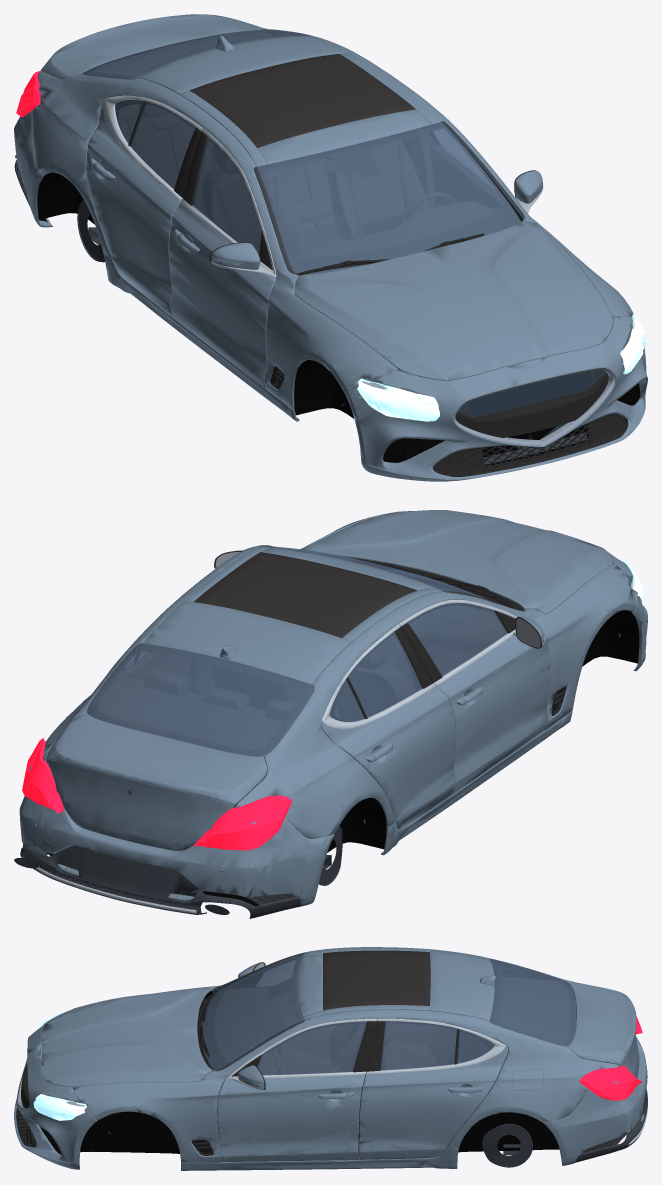
File: wheel-occluder-mirae-gt.glb
3 renders of one model, top to bottom at view 1: azimuth 30°, elevation 25°; view 2: azimuth 150°, elevation 25°; view 3: azimuth 270°, elevation 25°, orthographic. The views are drawn at different scales.
Visible parts, largest first — view 1: Object_120, Object_210, Object_114, Object_12, Object_82, Object_4, Object_24, Object_264, Object_160, Object_198; view 2: Object_120, Object_210, Object_114, Object_82, Object_24, Object_12, Object_212, Object_4, Object_160; view 3: Object_120, Object_210, Object_114, Object_4, Object_82, Object_12, Object_24, Object_160, Object_212, Object_264.
Boxes of the visible parts, x1,y1,x2,y2 form: Object_120: (14,14,647,481); Object_210: (82,29,520,274); Object_114: (93,31,504,369); Object_12: (83,30,628,476); Object_82: (18,54,632,394); Object_4: (17,100,639,465); Object_24: (14,31,596,464); Object_264: (357,313,646,421); Object_160: (105,95,543,277); Object_198: (454,367,615,445); Object_120: (19,510,647,906); Object_210: (87,545,507,756); Object_114: (97,585,505,801); Object_82: (25,550,635,905); Object_24: (14,545,620,918); Object_12: (87,546,566,756); Object_212: (22,738,292,850); Object_4: (46,563,639,906); Object_160: (36,552,544,913); Object_120: (14,947,647,1170); Object_210: (201,953,576,1075); Object_114: (214,970,569,1074); Object_4: (41,959,580,1159); Object_82: (46,950,622,1152); Object_12: (16,954,576,1155); Object_24: (39,952,647,1167); Object_160: (225,963,647,1144); Object_212: (579,1016,642,1100); Object_264: (33,1007,86,1120).
Bounding box in the file's own units: 5.4 × 3.19 × 12.12.
14 materials, 14 textured.
